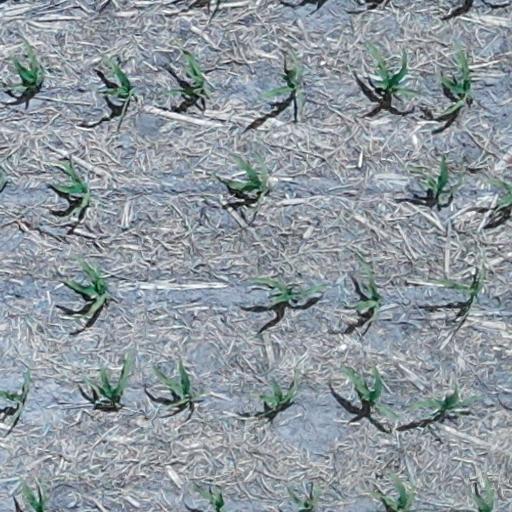planta: (366, 43, 425, 98), (62, 257, 111, 319), (429, 262, 487, 312), (342, 366, 397, 418), (406, 383, 479, 419), (405, 156, 466, 198), (224, 150, 268, 208), (82, 352, 132, 403), (253, 277, 326, 310), (159, 53, 211, 98), (349, 259, 384, 325), (440, 44, 472, 113), (51, 160, 91, 214), (87, 57, 135, 99), (261, 50, 303, 98), (153, 357, 193, 406), (258, 370, 299, 406)
